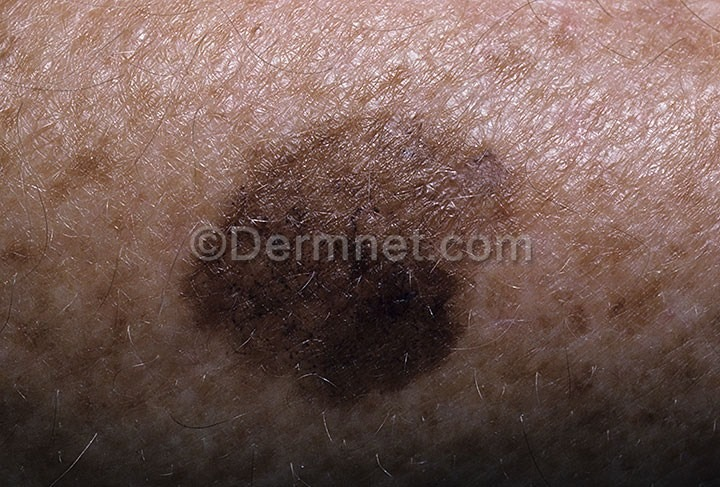Melasma: (143, 265, 501, 415), (200, 88, 544, 229), (558, 250, 717, 461)
